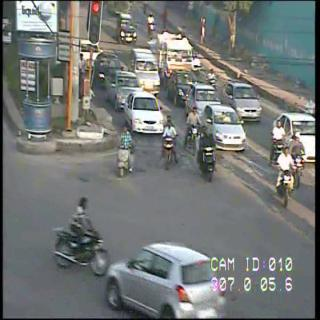normal: (43, 201, 207, 316), (262, 105, 320, 212), (107, 112, 182, 183), (157, 114, 224, 185)
